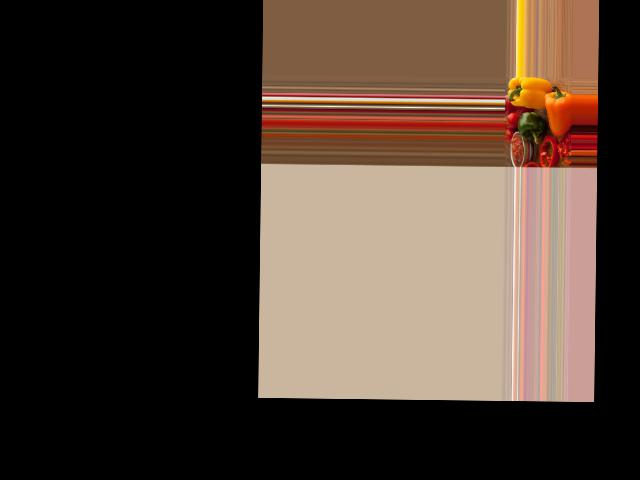bell_pepper: (508, 77, 544, 109)
